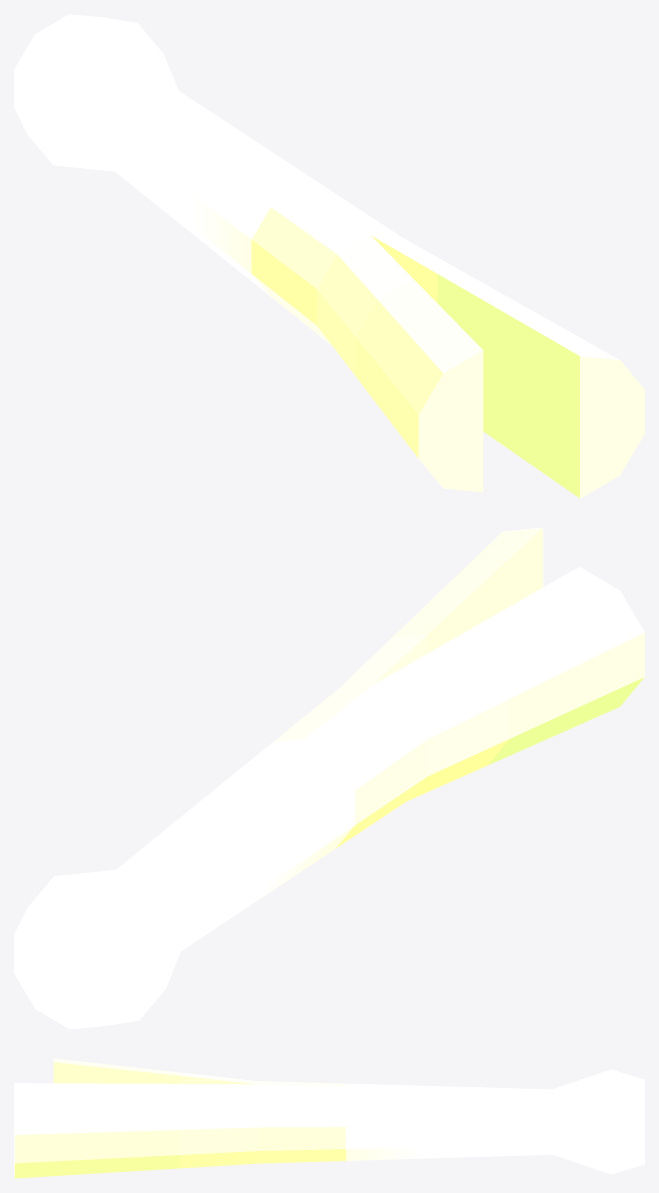
The model's file is negi.glb.
3 renders of one model, top to bottom at view 1: azimuth 30°, elevation 25°; view 2: azimuth 150°, elevation 25°; view 3: azimuth 270°, elevation 25°, orthographic. The views are drawn at different scales.
Visible parts, largest first — view 1: Cylinder; view 2: Cylinder; view 3: Cylinder.
Part boxes in pixels (x1,y1,x2,y2): Cylinder: [14, 14, 644, 498]; Cylinder: [14, 527, 644, 1029]; Cylinder: [14, 1058, 644, 1178].
Bounding box in the file's own units: 3.64 × 2.68 × 15.77.
